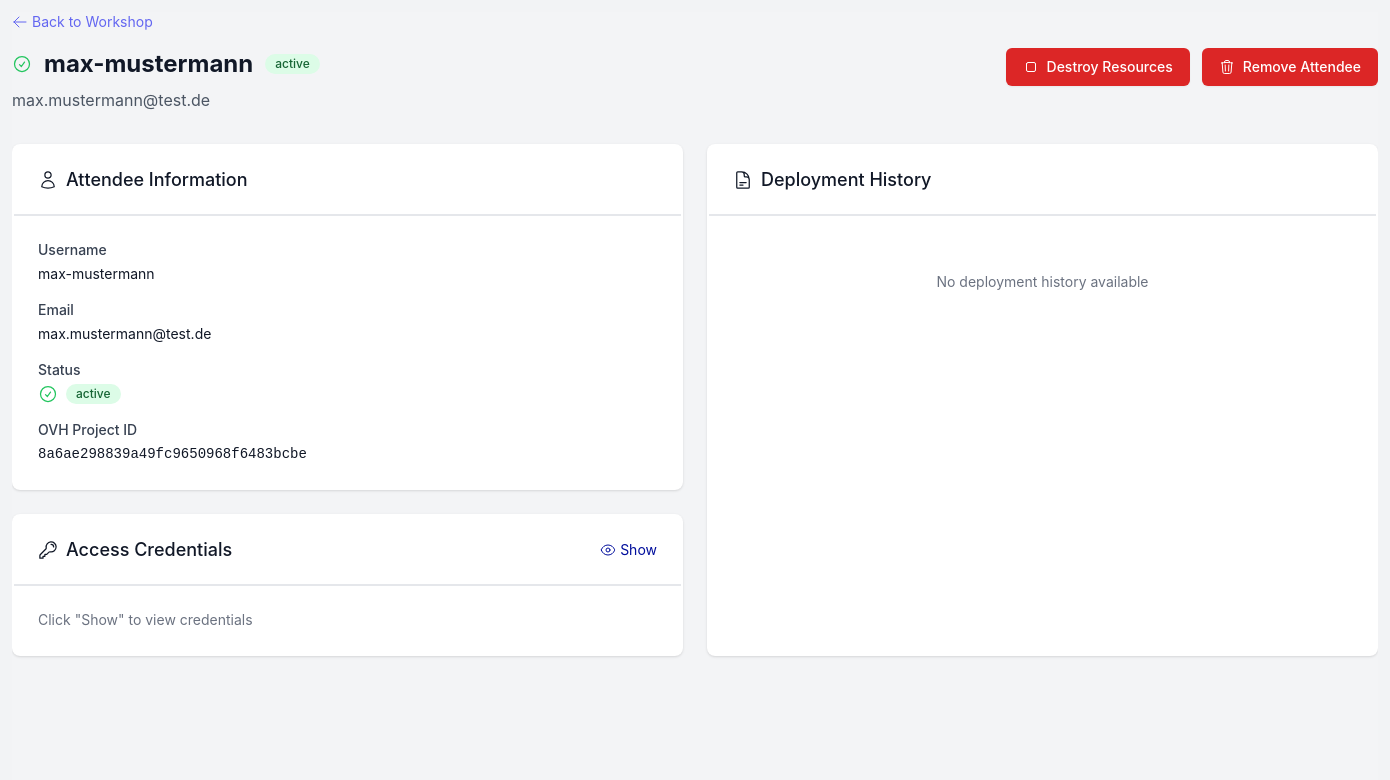
Test case: AttendeeView - Password Display › should display Terraform-generated password for active attendee
Expected: the heading "max-mustermann" is shown, top-left (44, 48), bottom-right (253, 80)
Expected: the heading "Access Credentials" is shown, top-left (38, 536), bottom-right (232, 564)
Note: Click Show button to reveal credentials
What coordinates should you click on to do the following:
click the button "Show"
I would click on:
 (629, 550)
Its box is top-left (600, 540), bottom-right (657, 560).
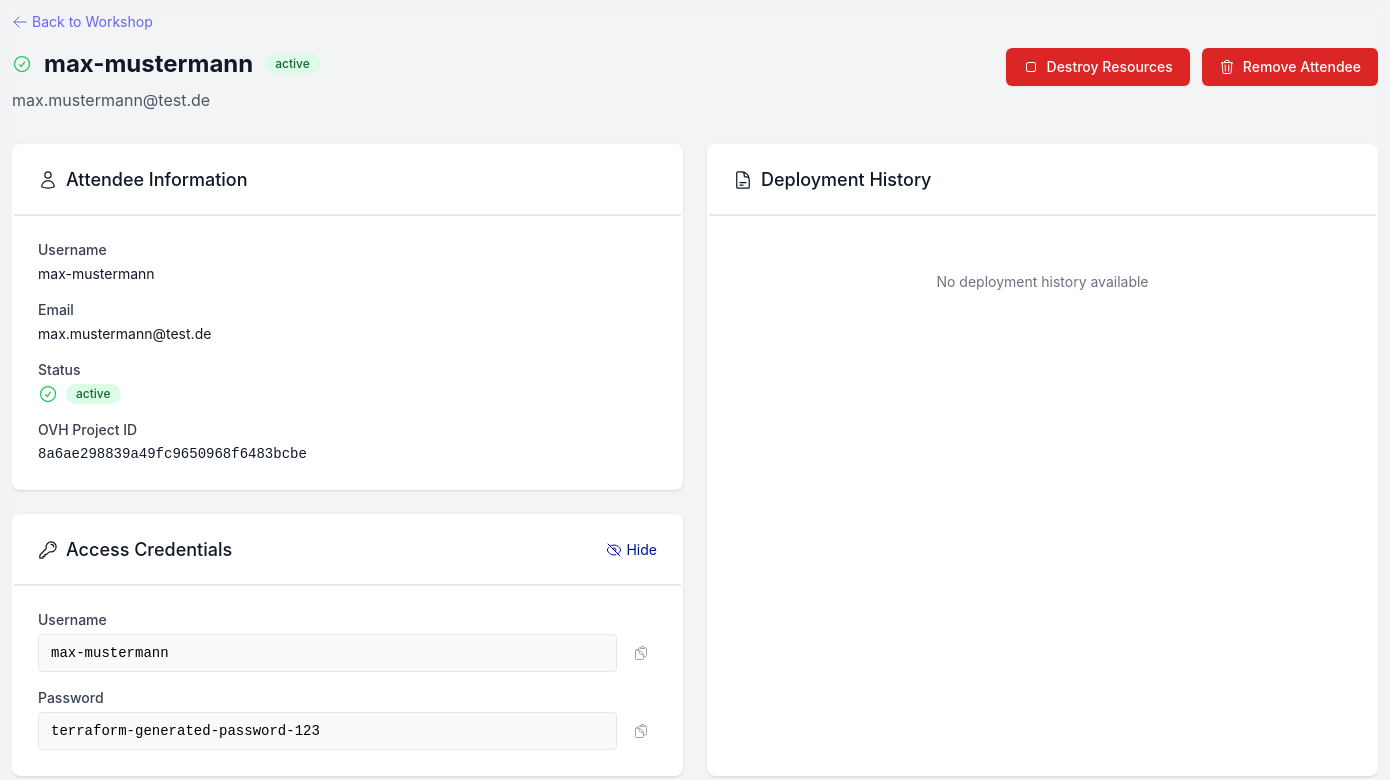
Result: the text "terraform-generated-password-123" is shown at top-left (38, 712), bottom-right (617, 750)
